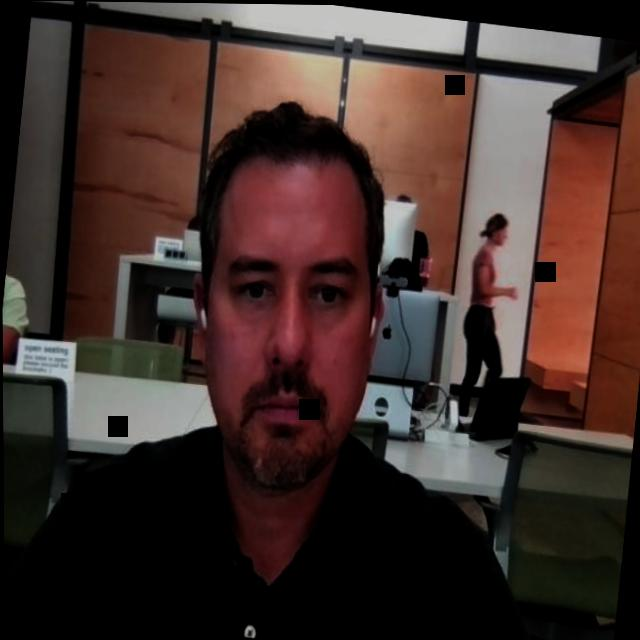NO-Mask: (171, 97, 399, 492), (481, 211, 510, 253)
